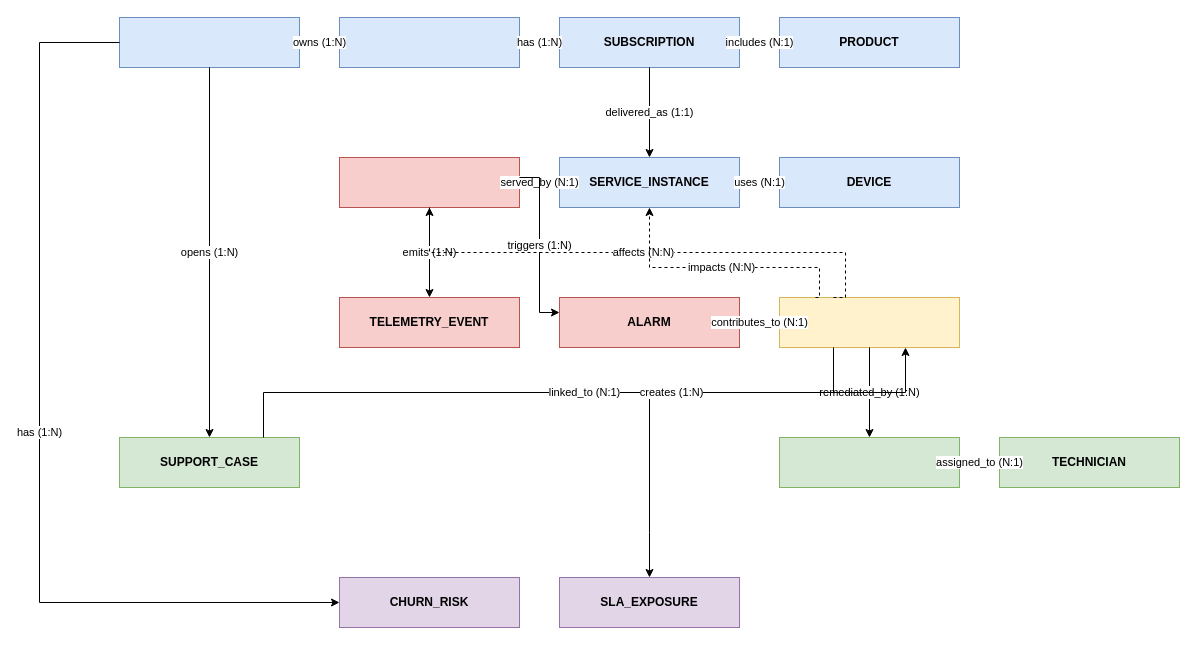
Image size: 1197x645. Some labels were removed from this diagram. The shapes that lost their labels are listed below. From the top down, each one's centre as x and y in pixels, then its label:
(209,42): CUSTOMER
(429,42): ACCOUNT
(429,182): NETWORK_ASSET
(869,322): INCIDENT
(869,462): WORK_ORDER
